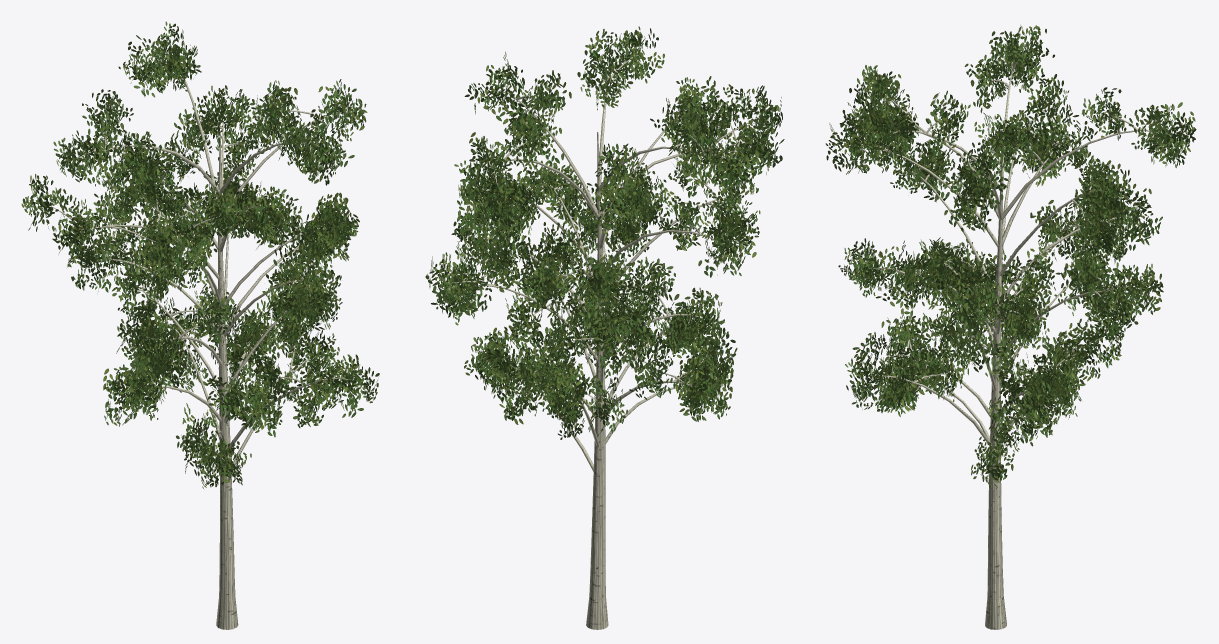
File: paper_birch_LOD0.glb
3 views of the same model, side by side, from view 1: azimuth 30°, elevation 25°; view 2: azimuth 150°, elevation 25°; view 3: azimuth 270°, elevation 25° (orthographic).
Visible parts, largest first — view 1: paper_birch_foliage, paper_birch_wood; view 2: paper_birch_foliage, paper_birch_wood; view 3: paper_birch_foliage, paper_birch_wood.
Boxes of the visible parts, x1=… form: paper_birch_foliage: x1=21, y1=21, x2=379, y2=488; paper_birch_wood: x1=51, y1=56, x2=347, y2=629; paper_birch_foliage: x1=425, y1=26, x2=784, y2=439; paper_birch_wood: x1=448, y1=54, x2=759, y2=629; paper_birch_foliage: x1=825, y1=25, x2=1196, y2=488; paper_birch_wood: x1=860, y1=52, x2=1170, y2=629.
Size of the model in its own units: 10.8 by 17.42 by 10.86.
Materials: 2 (2 with a texture image).
